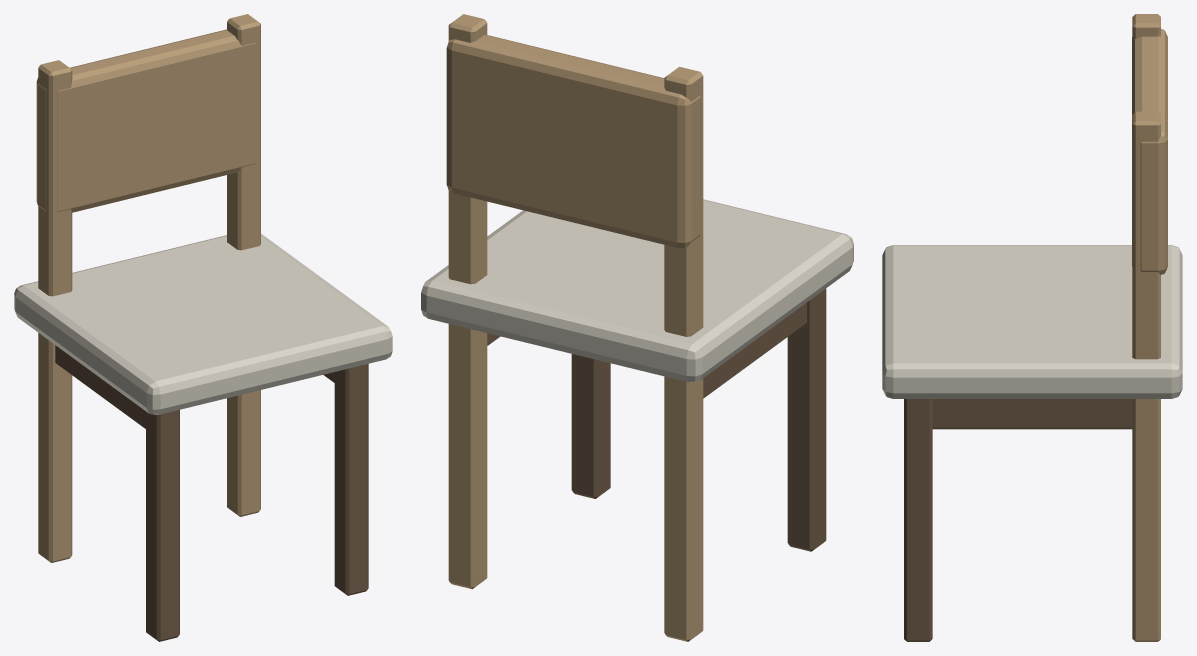
Rendered from chair_standard.glb.
3 renders of one model, left to right at view 1: azimuth 30°, elevation 25°; view 2: azimuth 150°, elevation 25°; view 3: azimuth 270°, elevation 25°, orthographic. The views are drawn at different scales.
Visible parts, largest first — view 1: chair_standard; view 2: chair_standard; view 3: chair_standard.
Part boxes in pixels (x1,y1,x2,y2): chair_standard: (14, 14, 392, 641); chair_standard: (421, 14, 853, 641); chair_standard: (882, 14, 1182, 641).
Bounding box in the file's own units: 0.46 × 0.88 × 0.46.
